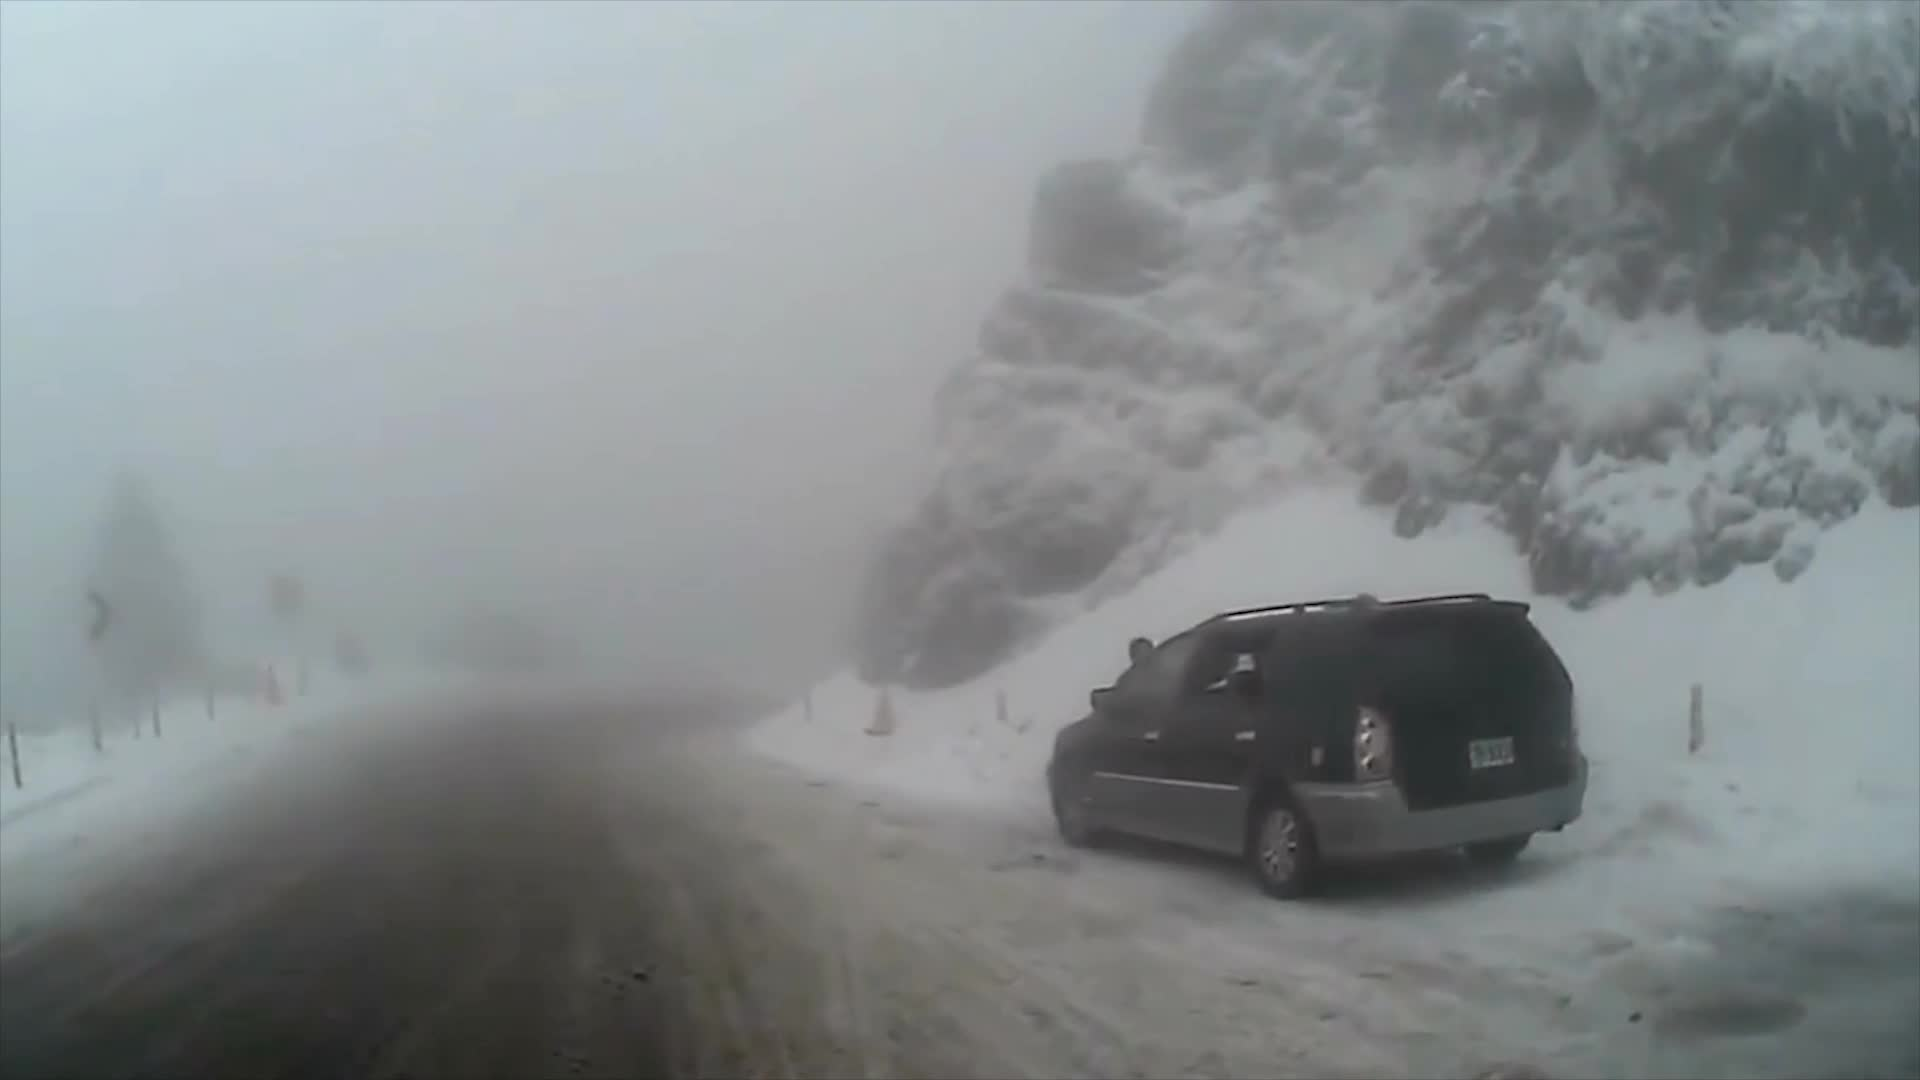vehicle: (1044, 589, 1590, 903)
